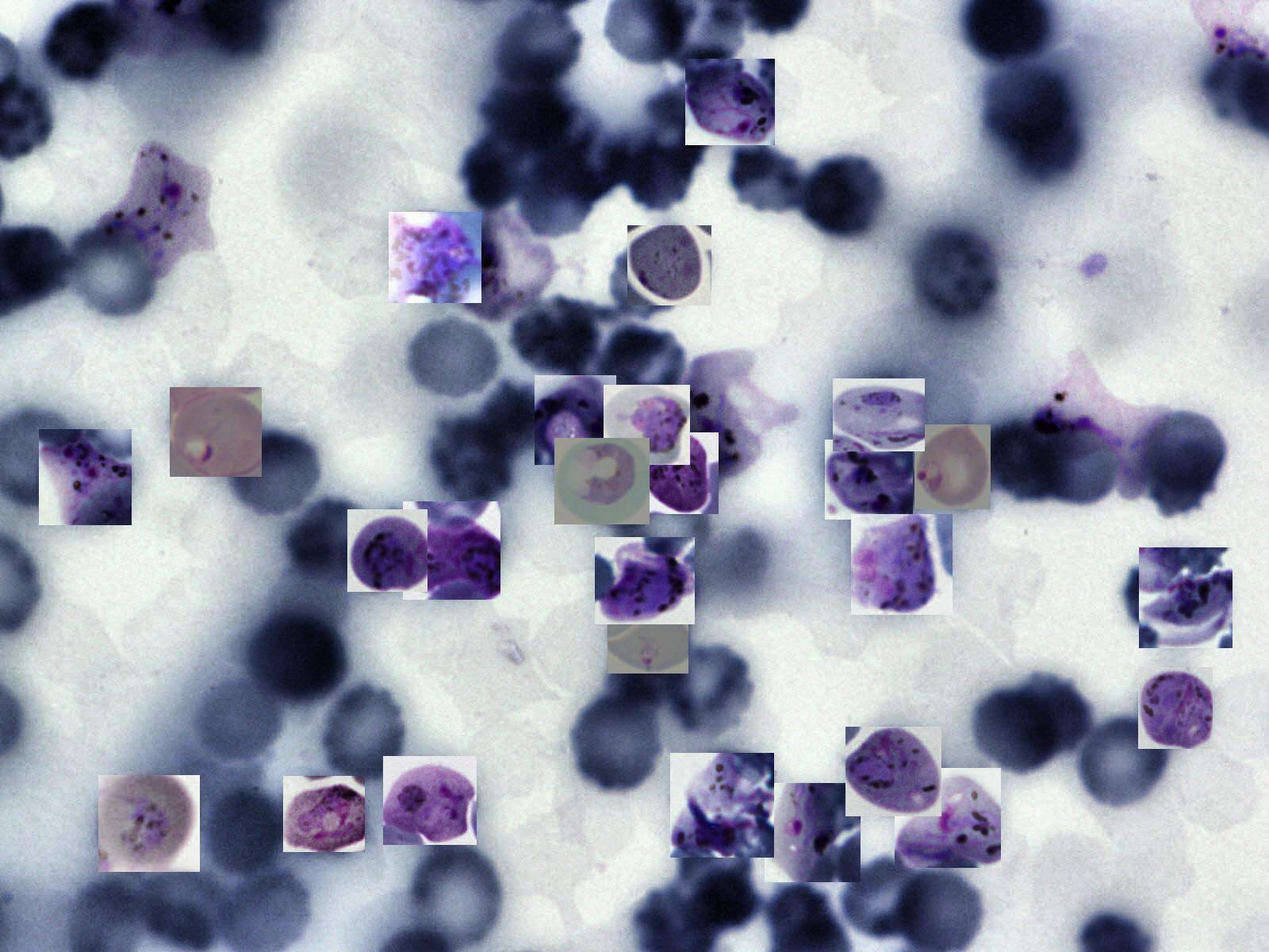Infected: (1035, 358, 1171, 497), (102, 143, 212, 277), (684, 348, 796, 478), (670, 753, 774, 858), (463, 209, 557, 322), (895, 768, 1001, 868), (851, 514, 953, 615), (98, 775, 200, 872), (403, 501, 500, 600), (765, 783, 861, 882), (1139, 547, 1233, 648), (39, 429, 132, 525), (595, 537, 695, 624), (845, 727, 941, 816), (389, 212, 481, 303), (383, 756, 477, 845), (170, 387, 262, 477), (554, 438, 650, 524), (685, 59, 775, 145), (535, 375, 616, 465), (825, 440, 913, 520), (604, 385, 691, 465), (628, 225, 712, 305), (833, 378, 925, 451), (347, 509, 427, 592), (608, 592, 688, 674), (914, 424, 991, 509), (641, 432, 719, 514), (283, 776, 365, 852), (1138, 667, 1213, 749)
Uninfected: (568, 690, 666, 796), (1075, 710, 1176, 812), (243, 611, 353, 704), (316, 679, 410, 784), (1138, 406, 1231, 512), (970, 681, 1068, 780), (408, 843, 502, 945), (224, 428, 324, 522), (909, 225, 1002, 324), (401, 313, 502, 404), (68, 228, 165, 321), (836, 857, 935, 946), (798, 152, 888, 243), (287, 494, 377, 584), (195, 675, 286, 764), (669, 645, 755, 738), (429, 413, 515, 505), (724, 137, 811, 220), (492, 7, 582, 86), (202, 788, 282, 876), (602, 326, 685, 409), (1008, 673, 1095, 751), (983, 421, 1064, 502), (611, 238, 687, 321), (473, 383, 551, 459), (511, 311, 599, 377), (1121, 563, 1194, 641)
